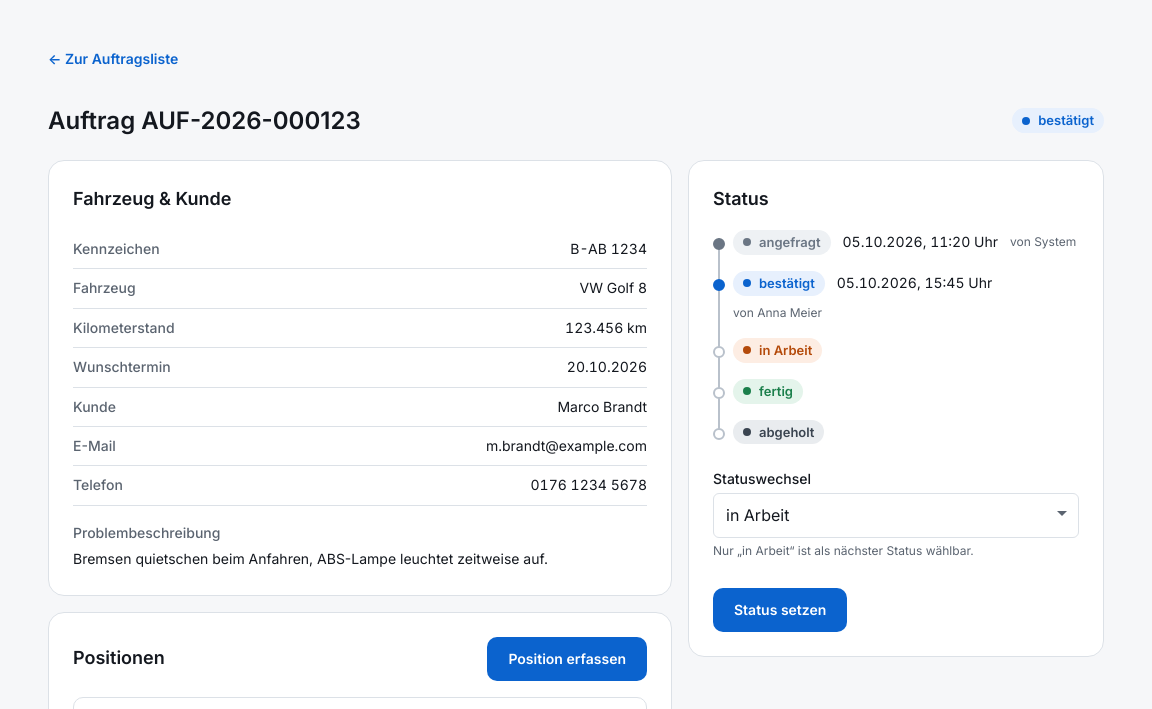
WorkshopOrderDetail › adds a position through the modal and posts it to the items endpoint
Click the button "Position erfassen": (567, 658) [487,636,647,680]
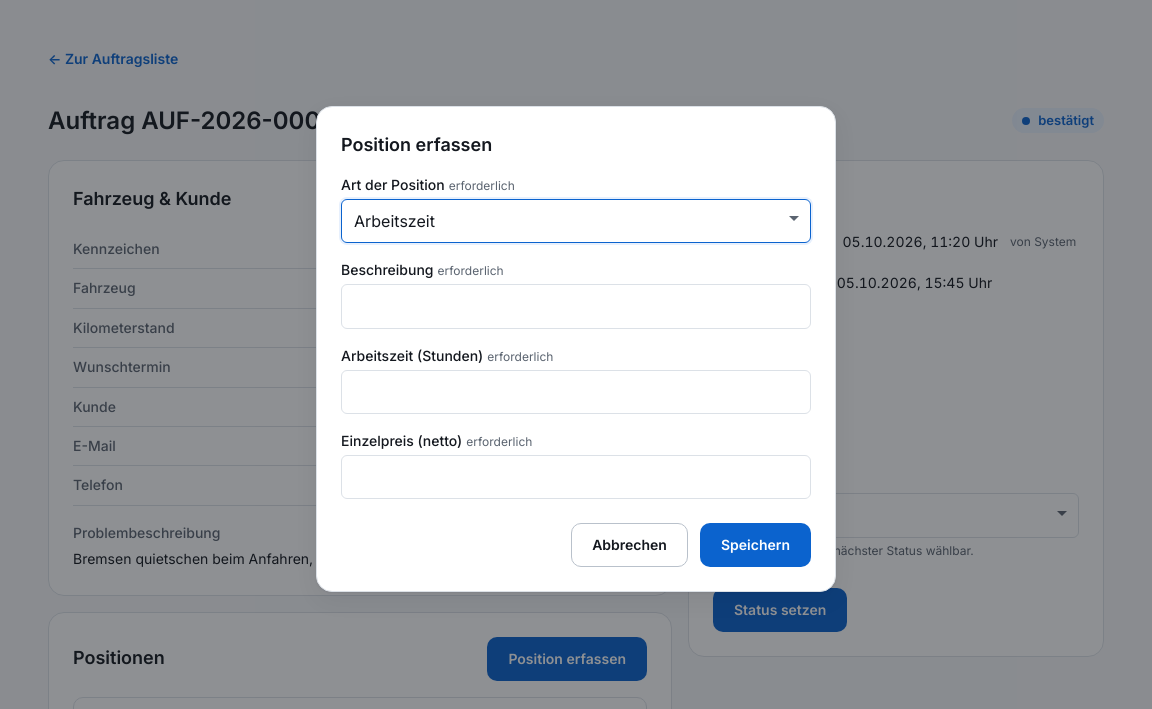
Expected: the heading "Position erfassen" is shown, [341,134,492,155]
In the field labelled "Beschreibung": (576, 306) [341,284,811,328], type "Testarbeit"
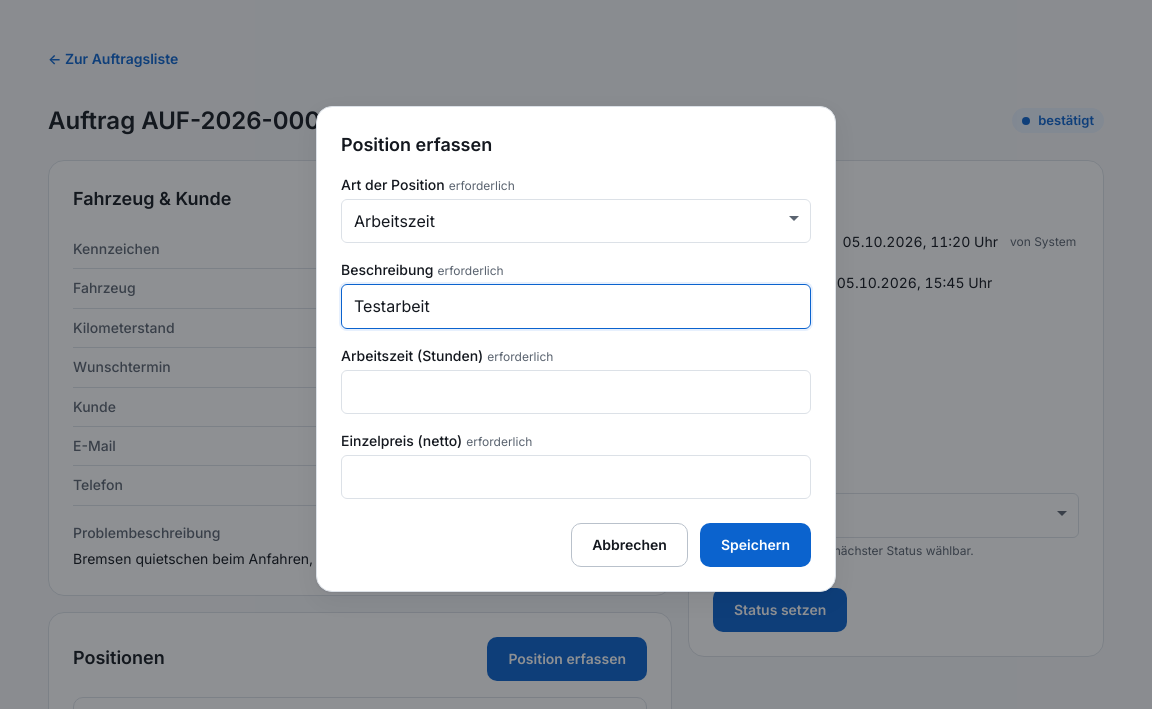
In the field labelled "Arbeitszeit (Stunden)erforderlich": (576, 392) [341,370,811,414], type "1,5"
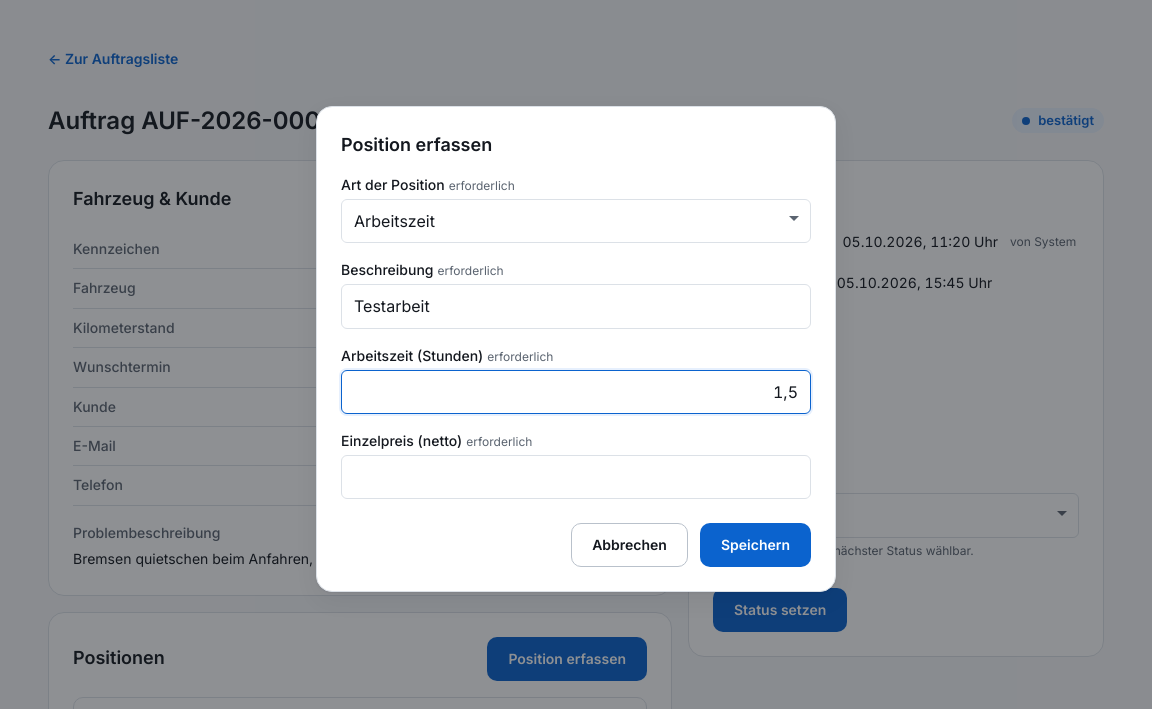
In the field labelled "Einzelpreis (netto)erforderlich": (576, 477) [341,455,811,499], type "78,00"
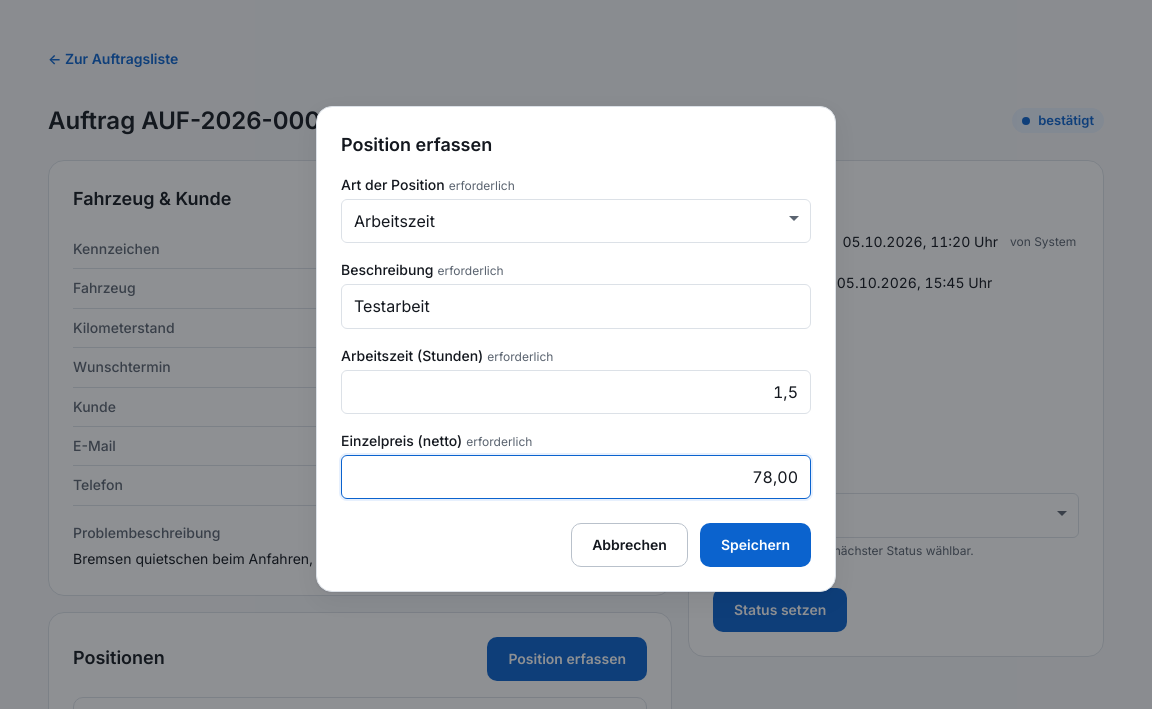
Click the button "Speichern": (755, 545) [700,523,811,567]
(page scrolled)
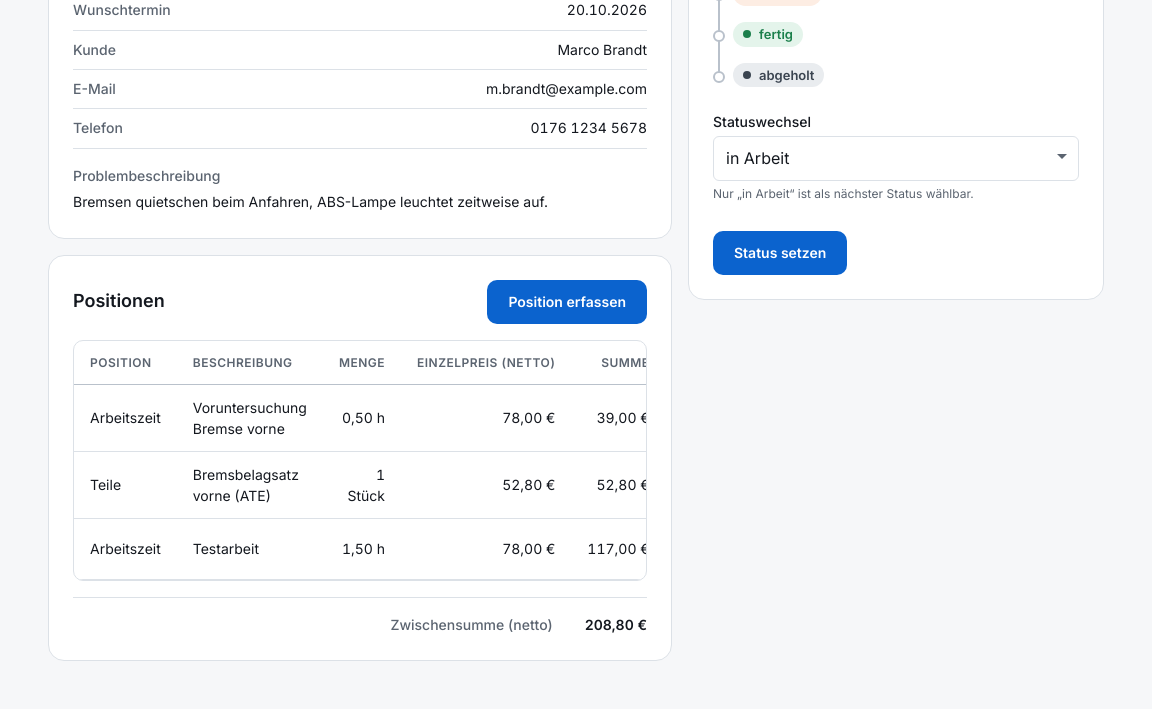
Expected: the text "Testarbeit" is shown, [177,518,323,579]
